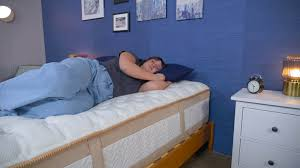bed-matress: (1, 76, 210, 168)
